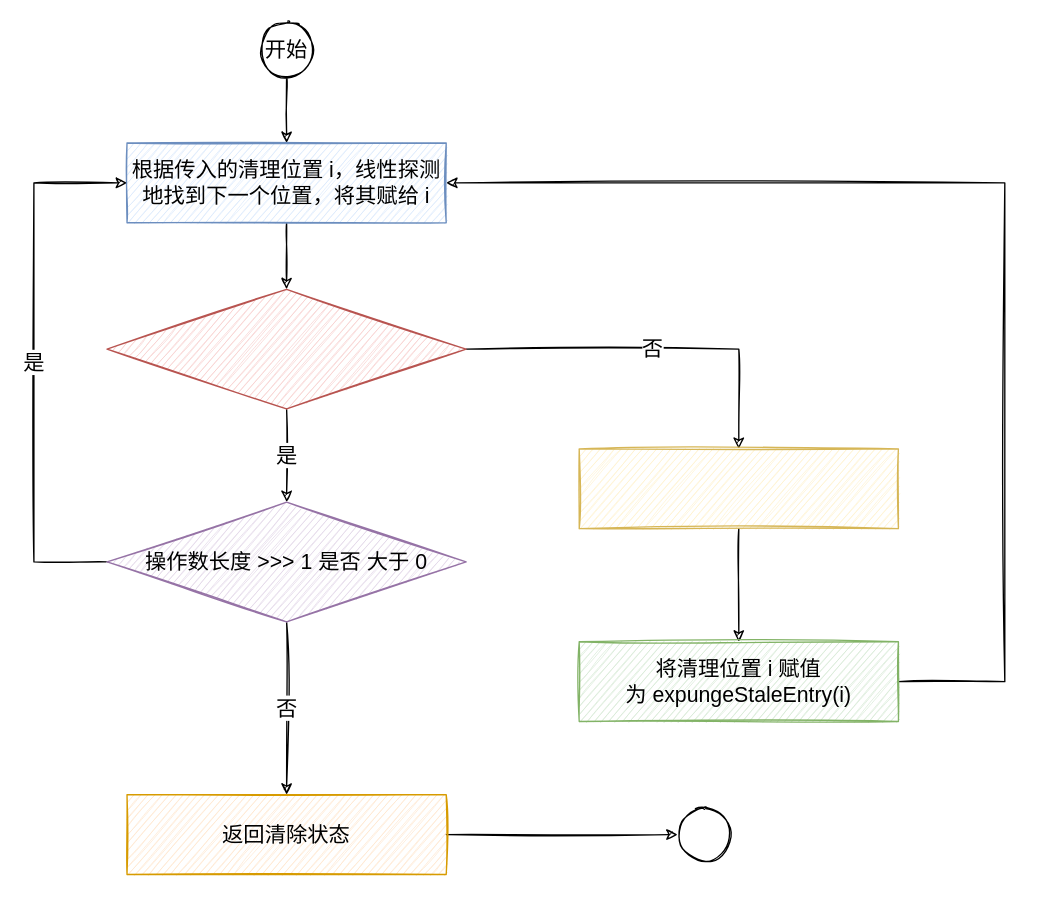
Some shapes in this 1039 by 898 pixel diagram are drawn without their labels. Each missing label, with the centre of its shape:
"将操作数赋值为为数组的长度，并标记清除状态为 true" goes at (738,488).
"当前位置的 Entry 不为 null，并且对应的 ThreadLocal 未清除" goes at (286,348).
"结束" goes at (703,834).
